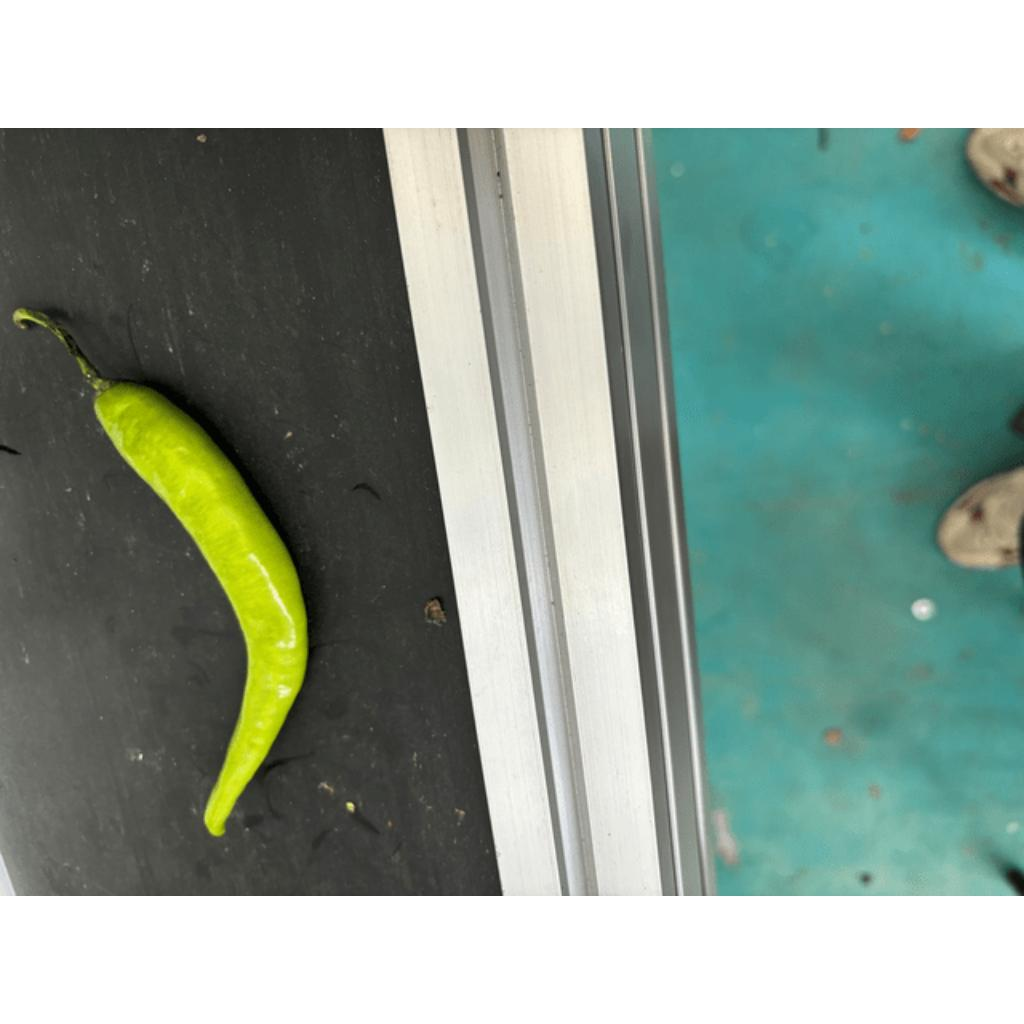chili: (88, 375, 313, 839)
